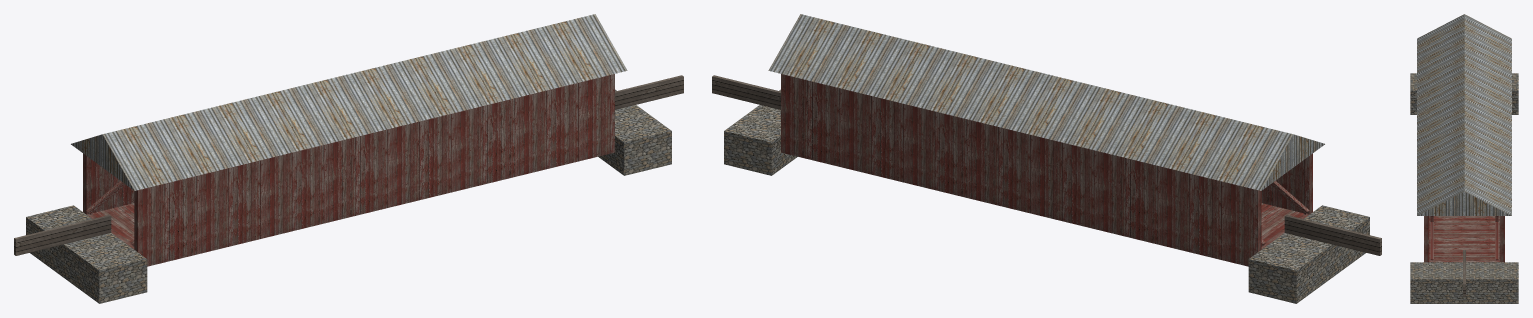
The model's file is covered-bridge_lod0.gltf.
3 views of the same model, side by side, from view 1: azimuth 30°, elevation 25°; view 2: azimuth 150°, elevation 25°; view 3: azimuth 270°, elevation 25° (orthographic). The views are drawn at different scales.
Parts seen in each view (by area): view 1: covered-bridge_roof, covered-bridge_walls, covered-bridge_abutments, covered-bridge_deck, covered-bridge__guard_rail_a, covered-bridge__guard_rail_b; view 2: covered-bridge_roof, covered-bridge_walls, covered-bridge_abutments, covered-bridge_deck, covered-bridge__guard_rail_a, covered-bridge__guard_rail_b; view 3: covered-bridge_roof, covered-bridge_abutments, covered-bridge_deck, covered-bridge_walls, covered-bridge__truss, covered-bridge__guard_rail_b.
Boxes of the visible parts, x1,y1,x2,y2 form: covered-bridge_roof: (71,14,627,190); covered-bridge_walls: (83,74,614,252); covered-bridge_abutments: (26,89,671,303); covered-bridge_deck: (87,136,614,266); covered-bridge__guard_rail_a: (14,215,111,255); covered-bridge__guard_rail_b: (615,75,683,109); covered-bridge_roof: (768,14,1324,190); covered-bridge_walls: (781,74,1312,252); covered-bridge_abutments: (724,89,1369,303); covered-bridge_deck: (781,136,1308,266); covered-bridge__guard_rail_a: (1284,215,1381,255); covered-bridge__guard_rail_b: (712,75,780,109); covered-bridge_roof: (1417,14,1511,215); covered-bridge_abutments: (1410,73,1518,303); covered-bridge_deck: (1429,216,1499,262); covered-bridge_walls: (1424,216,1504,262); covered-bridge__truss: (1430,216,1498,260); covered-bridge__guard_rail_b: (1463,250,1465,296).
Bounding box in the file's own units: 42 × 8 × 8.
